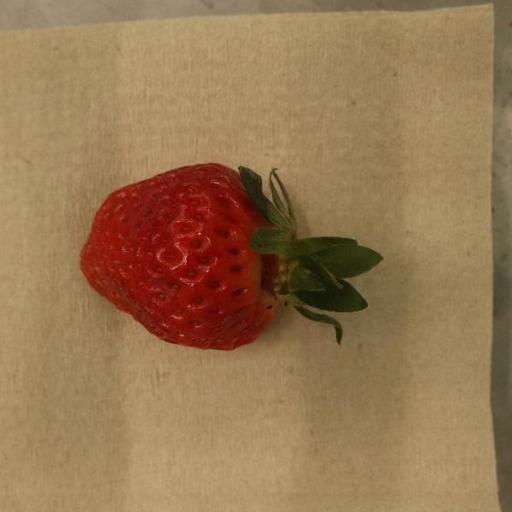Strawberry: (80, 163, 386, 352)
